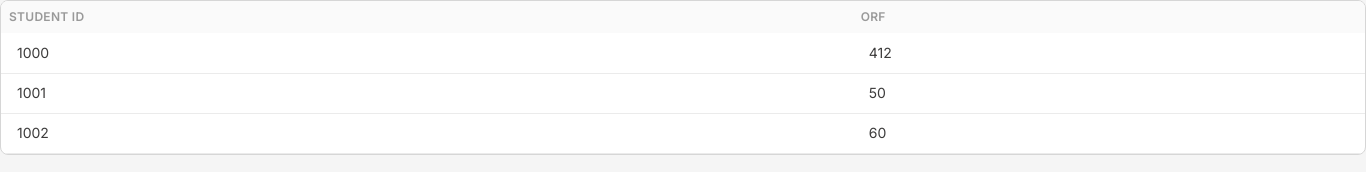
it: DataGrid › commits an inline edit on Enter and surfaces cell messages to assistive tech
This screenshot has width=1366, height=172.
# The editable cell exposes its value + message in the accessible name.
Click the button named "ORF, row 1: 412. Row 1: ORF exceeds maximum" at (880, 52), box [861,39,1357,67]
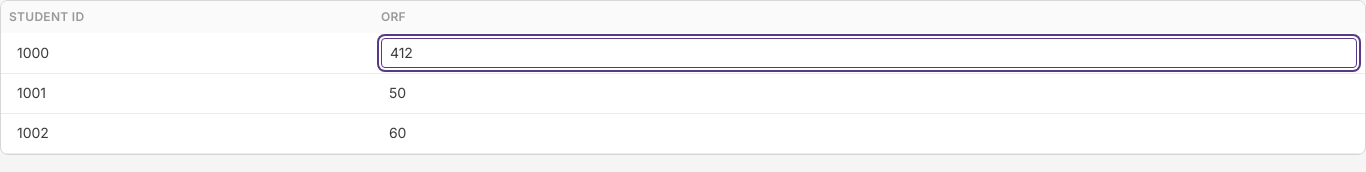
Replace the text in the field named "Edit ORF, row 1" with "300" at (869, 53), box [381,38,1357,68]
Then press Enter
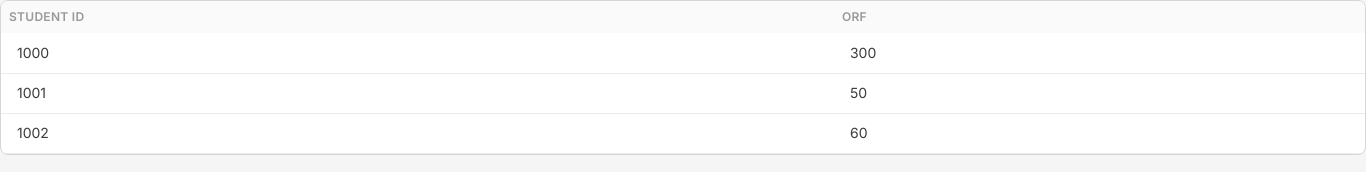
Check: the button named "ORF, row 1: 300" is shown, box [842,39,1357,67]
